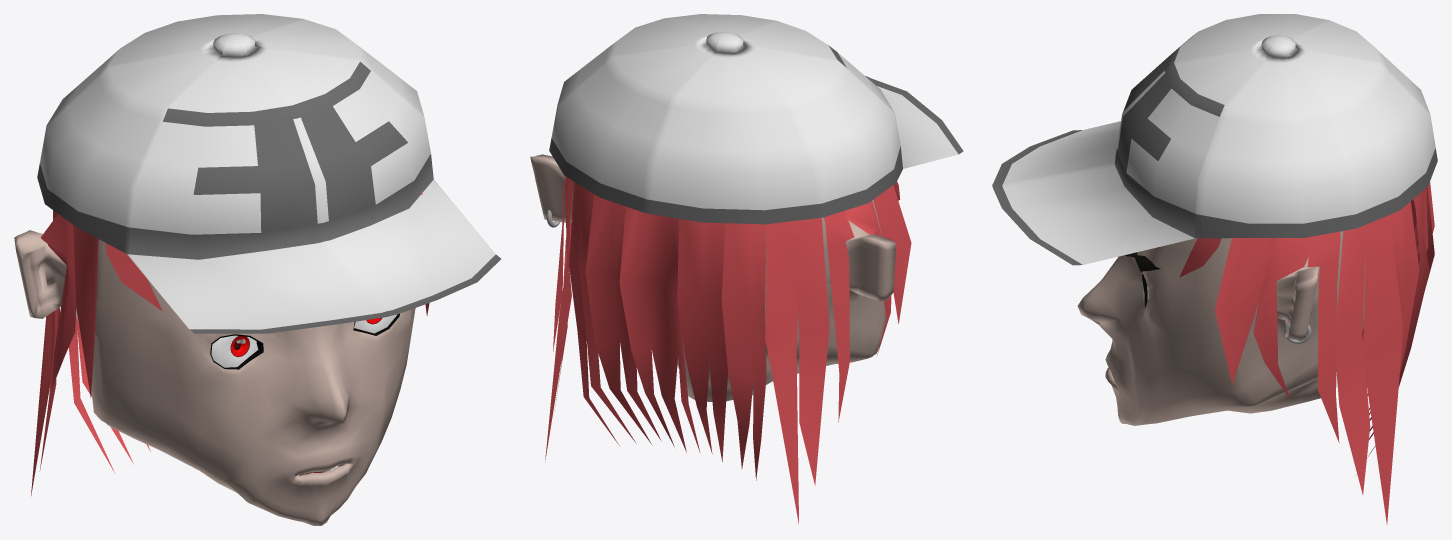
File: player_olay_head.glb
The picture shows the model from 3 angles, left to right: view 1: azimuth 30°, elevation 25°; view 2: azimuth 150°, elevation 25°; view 3: azimuth 270°, elevation 25°; orthographic projection. The views are drawn at different scales.
Parts seen in each view (by area): view 1: OlayCap; view 2: OlayCap; view 3: OlayCap.
Part boxes in pixels (x1,y1,x2,y2): OlayCap: [14, 14, 501, 525]; OlayCap: [530, 14, 963, 523]; OlayCap: [992, 14, 1437, 524].
Bounding box in the file's own units: 0.5684 × 0.6381 × 0.6057.
Materials: 11 (1 with a texture image).
